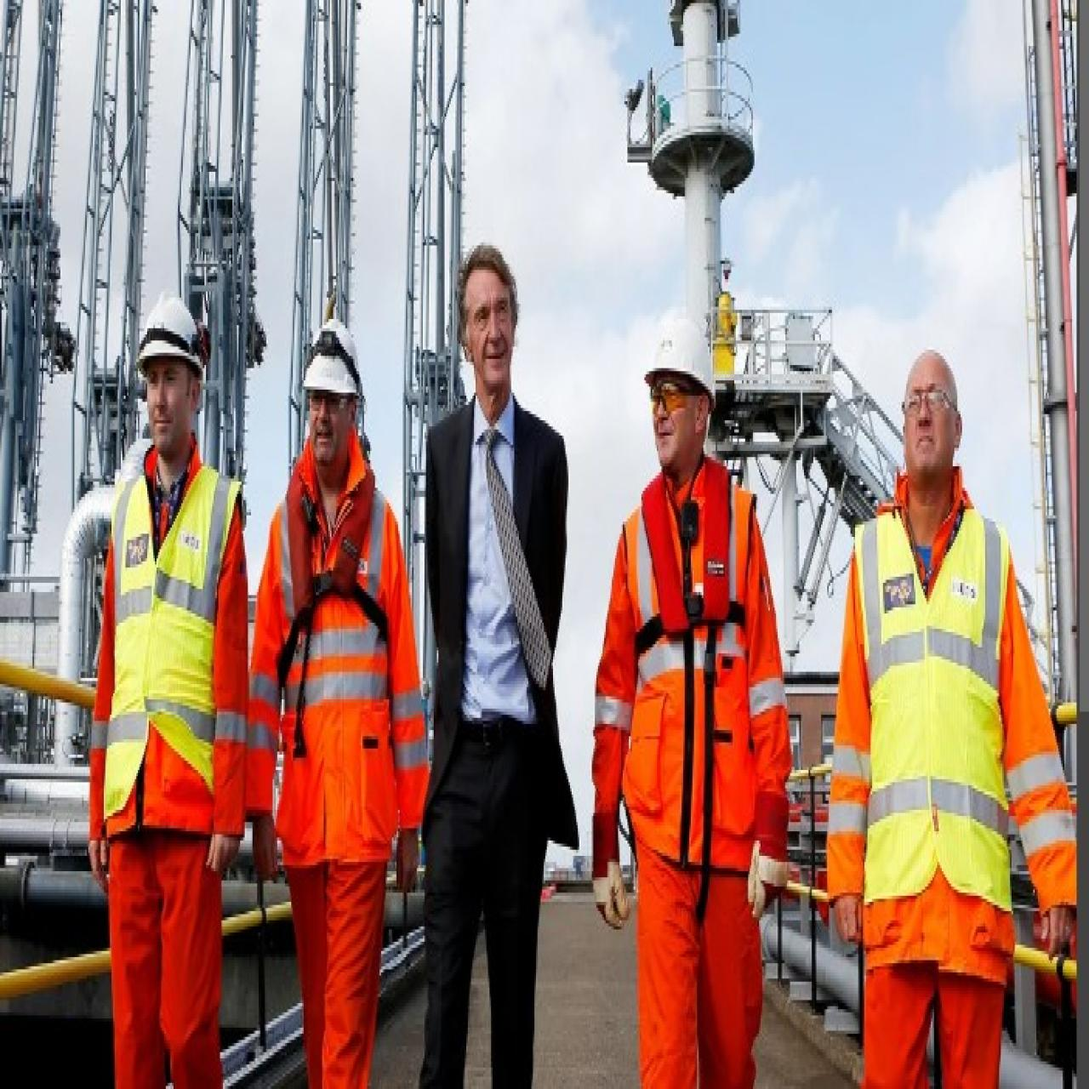NO_Safety_Vest: (273, 458, 392, 851), (436, 406, 544, 729)
Person: (816, 322, 1089, 1089), (586, 295, 797, 1084), (418, 227, 580, 1089), (82, 280, 254, 1078), (254, 294, 420, 1089)
Safety_Vest: (856, 485, 1012, 900), (609, 471, 764, 862), (105, 458, 229, 842)
